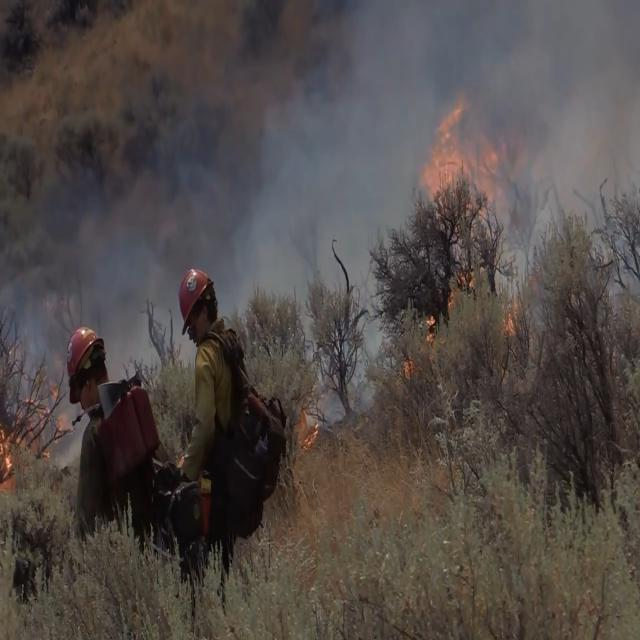Fire: (418, 98, 524, 362)
